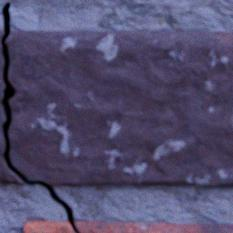broken_brick: (5, 29, 232, 185), (23, 220, 232, 232), (0, 102, 25, 184), (0, 30, 5, 98)
crack: (0, 1, 78, 232)
